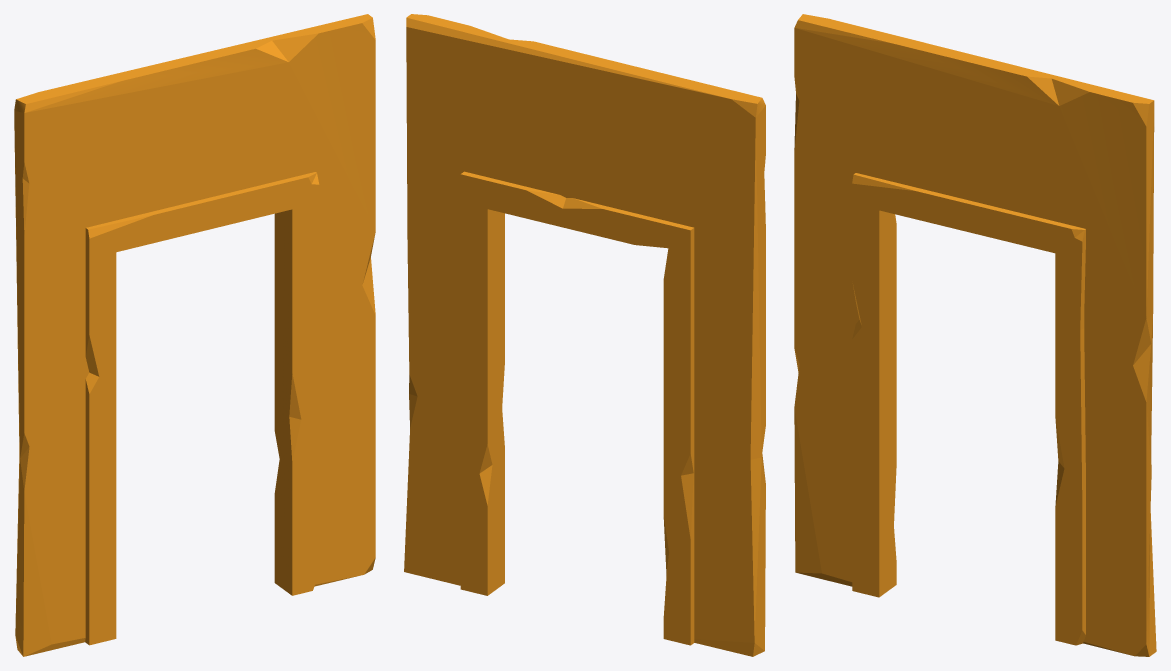
The model's file is SM_Buildings_WallDoor_2x3_01P.fbx.
The picture shows the model from 3 angles, left to right: view 1: azimuth 30°, elevation 25°; view 2: azimuth 150°, elevation 25°; view 3: azimuth 330°, elevation 25°; orthographic projection.
Parts seen in each view (by area): view 1: SM_Buildings_WallDoor_2x3_01P; view 2: SM_Buildings_WallDoor_2x3_01P; view 3: SM_Buildings_WallDoor_2x3_01P.
Part boxes in pixels (x1,y1,x2,y2): SM_Buildings_WallDoor_2x3_01P: [14, 14, 375, 656]; SM_Buildings_WallDoor_2x3_01P: [404, 14, 765, 656]; SM_Buildings_WallDoor_2x3_01P: [794, 14, 1156, 656].
Bounding box in the file's own units: 200 × 300 × 17.29.
